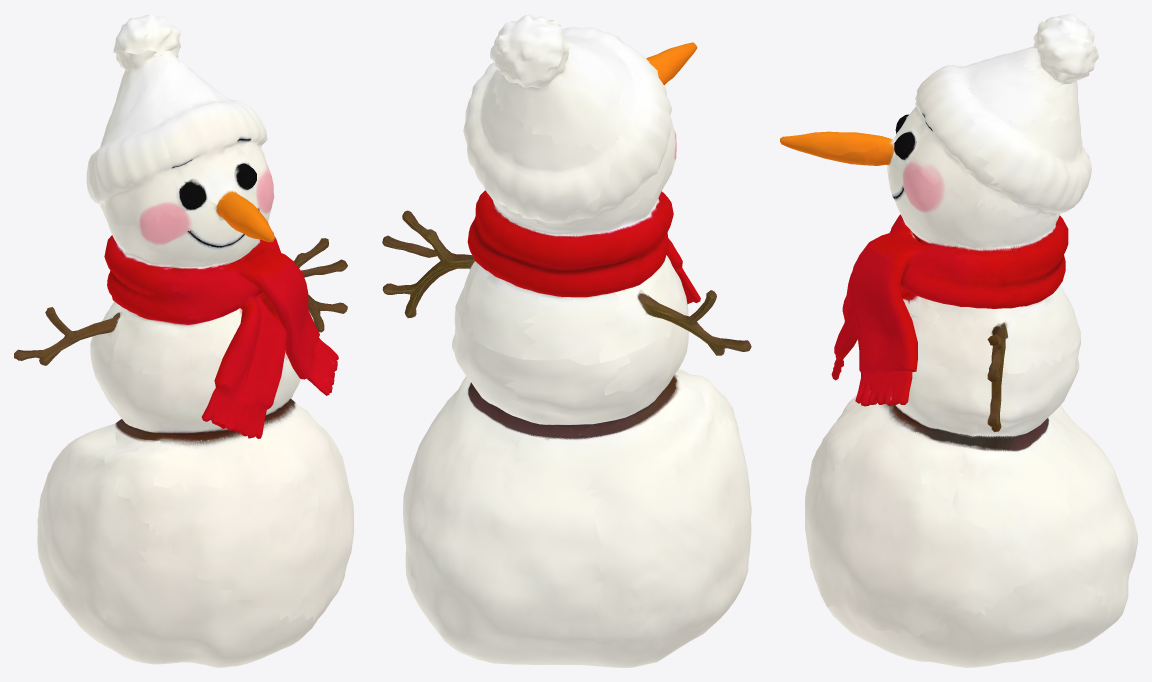
The model's file is snowman.glb.
3 views of the same model, side by side, from view 1: azimuth 30°, elevation 25°; view 2: azimuth 150°, elevation 25°; view 3: azimuth 270°, elevation 25° (orthographic). The views are drawn at different scales.
Bounding box in the file's own units: 1.12 × 1.91 × 1.01.
Materials: 1 (1 with a texture image).
